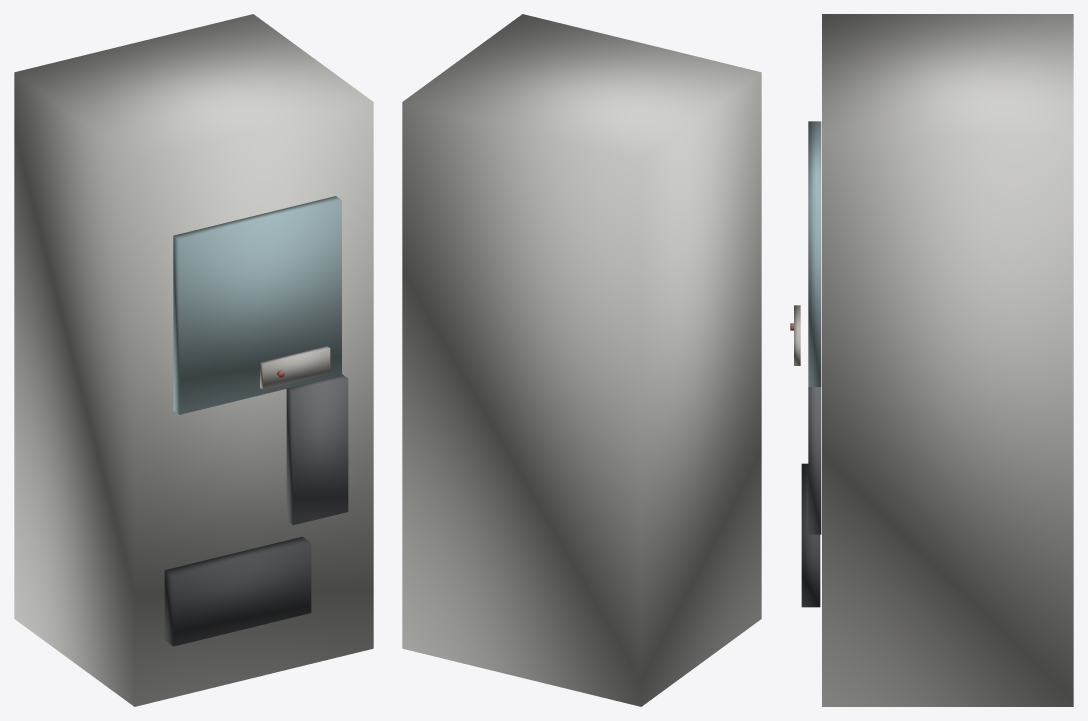
File: motel_ice_machine__reinforced.glb
3 views of the same model, side by side, from view 1: azimuth 30°, elevation 25°; view 2: azimuth 150°, elevation 25°; view 3: azimuth 270°, elevation 25° (orthographic). The views are drawn at different scales.
Visible parts, largest first — view 1: world; view 2: world; view 3: world.
Boxes of the visible parts, x1,y1,x2,y2 form: world: (14,14,373,706); world: (402,14,761,706); world: (790,14,1073,706).
Bounding box in the file's own units: 0.8034 × 1.75 × 0.789.
